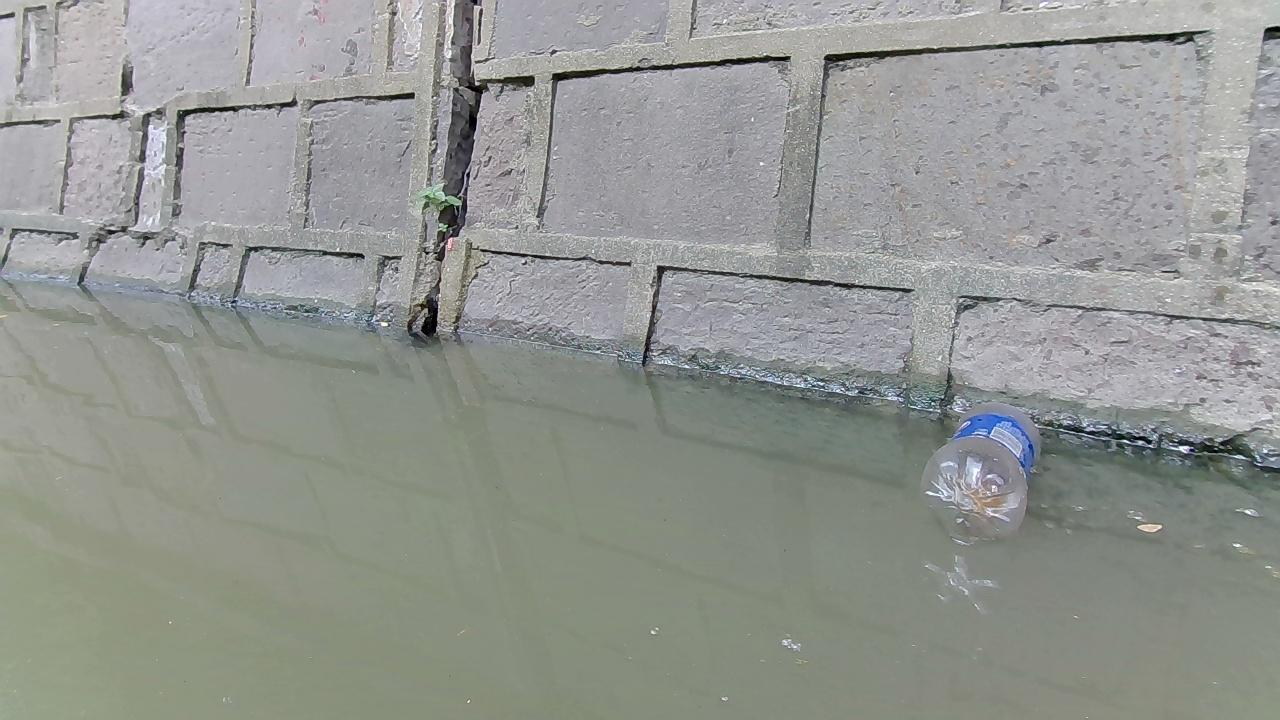bottle: (917, 389, 1039, 546)
